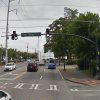Traffic light: (9, 26, 21, 47)
